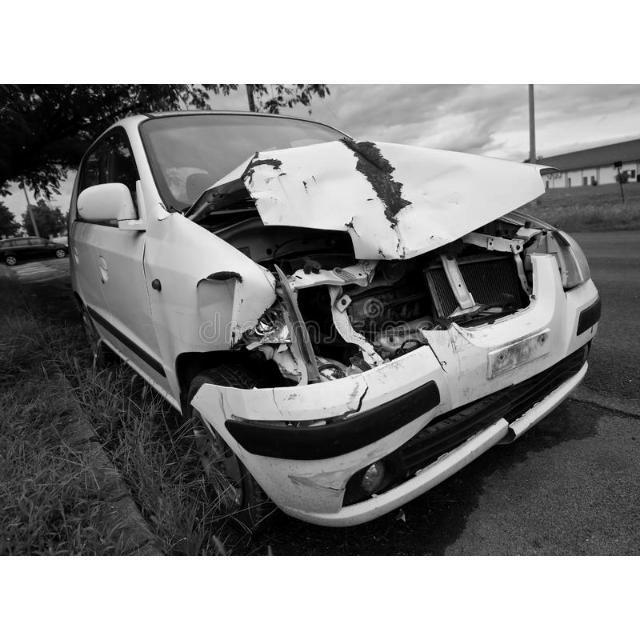bonnet-dent: (192, 134, 564, 255)
fender-dent: (144, 220, 264, 412)
front-bumper-dent: (182, 324, 634, 524)
